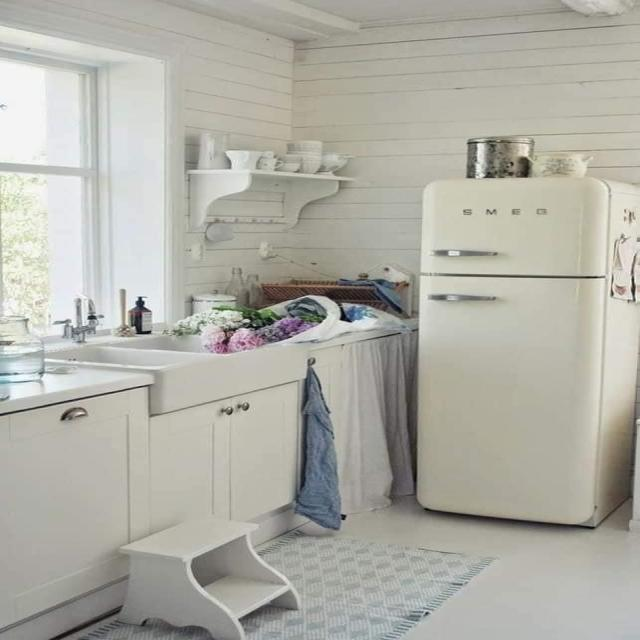obstacle: (413, 175, 638, 528), (0, 383, 150, 637), (147, 378, 305, 549)
